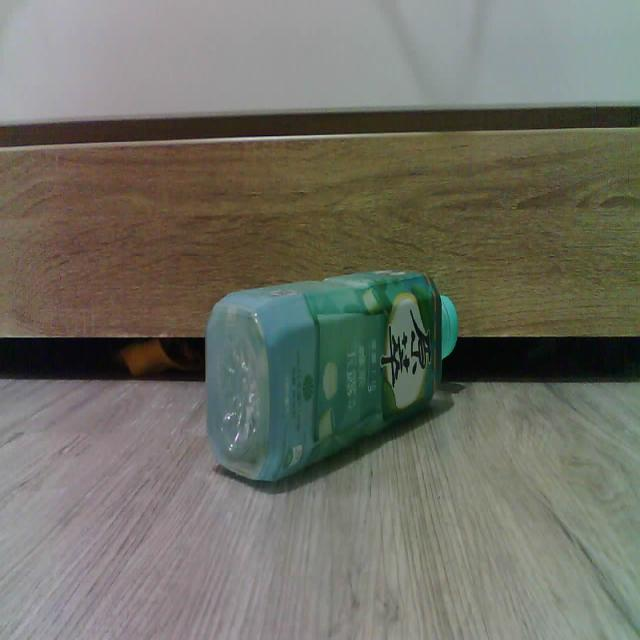bottle: (206, 270, 458, 481), (220, 439, 220, 440)
